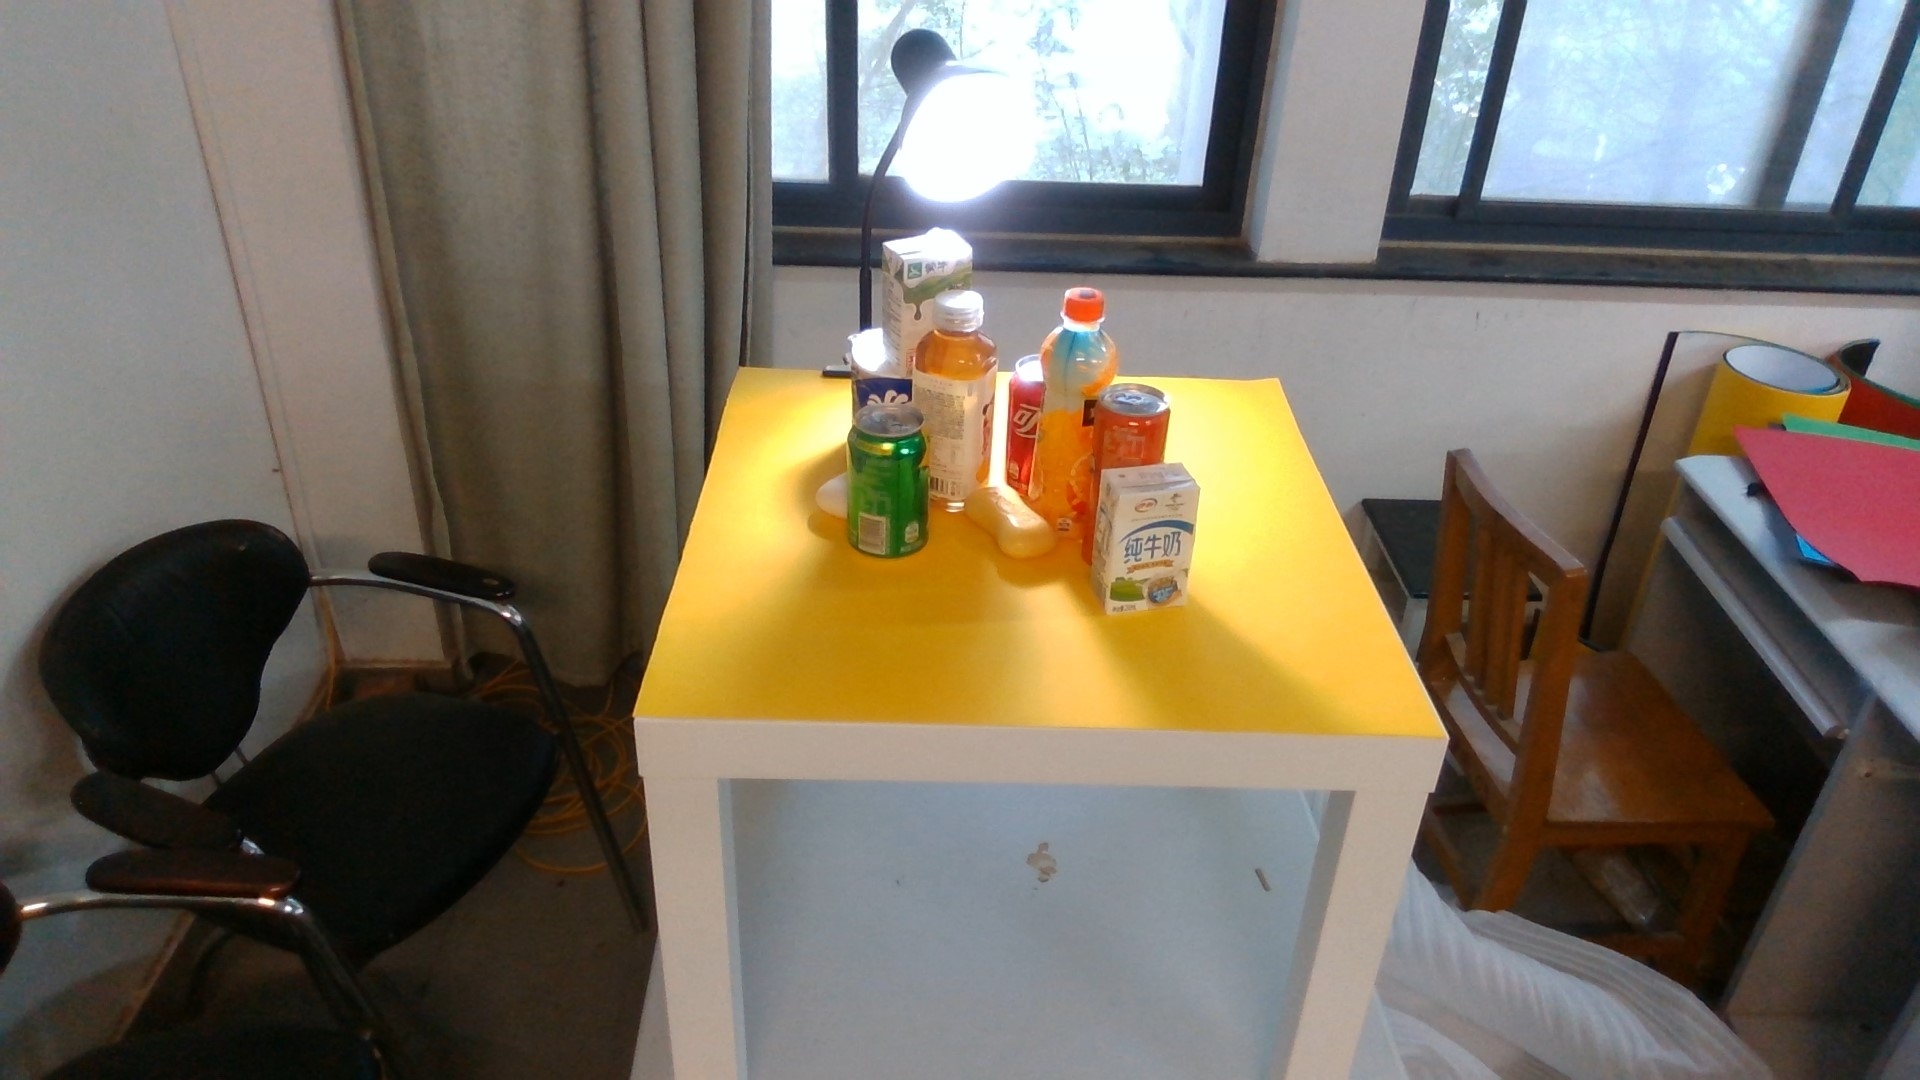BB003: (968, 477, 1051, 559), (815, 469, 845, 520)
BB009: (884, 229, 975, 291)
BB013: (1091, 467, 1201, 616)
CA002: (847, 324, 899, 406)
ZC001: (848, 407, 928, 560)
ZC002: (1005, 357, 1036, 475)
ZC003: (1097, 378, 1170, 462)
ZC006: (1038, 287, 1091, 506)
ZC012: (932, 287, 998, 488)
